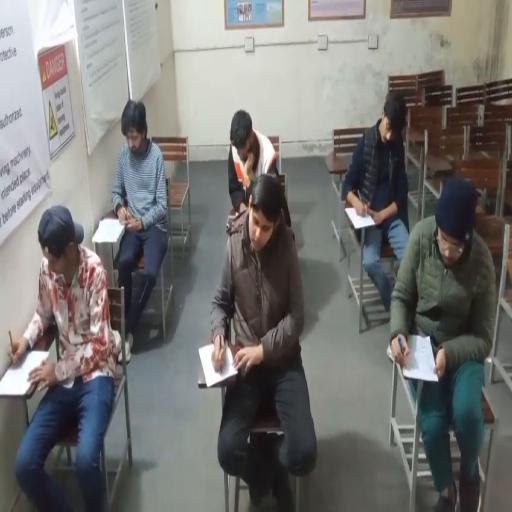paper: (0, 349, 50, 397), (198, 341, 238, 387), (401, 334, 438, 382), (92, 217, 126, 244), (344, 204, 376, 229)
